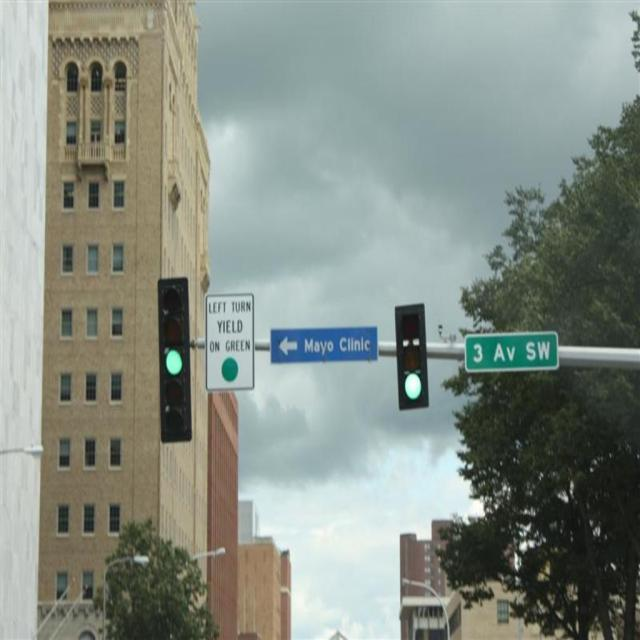traffic light: (153, 278, 194, 442), (394, 307, 429, 415)
